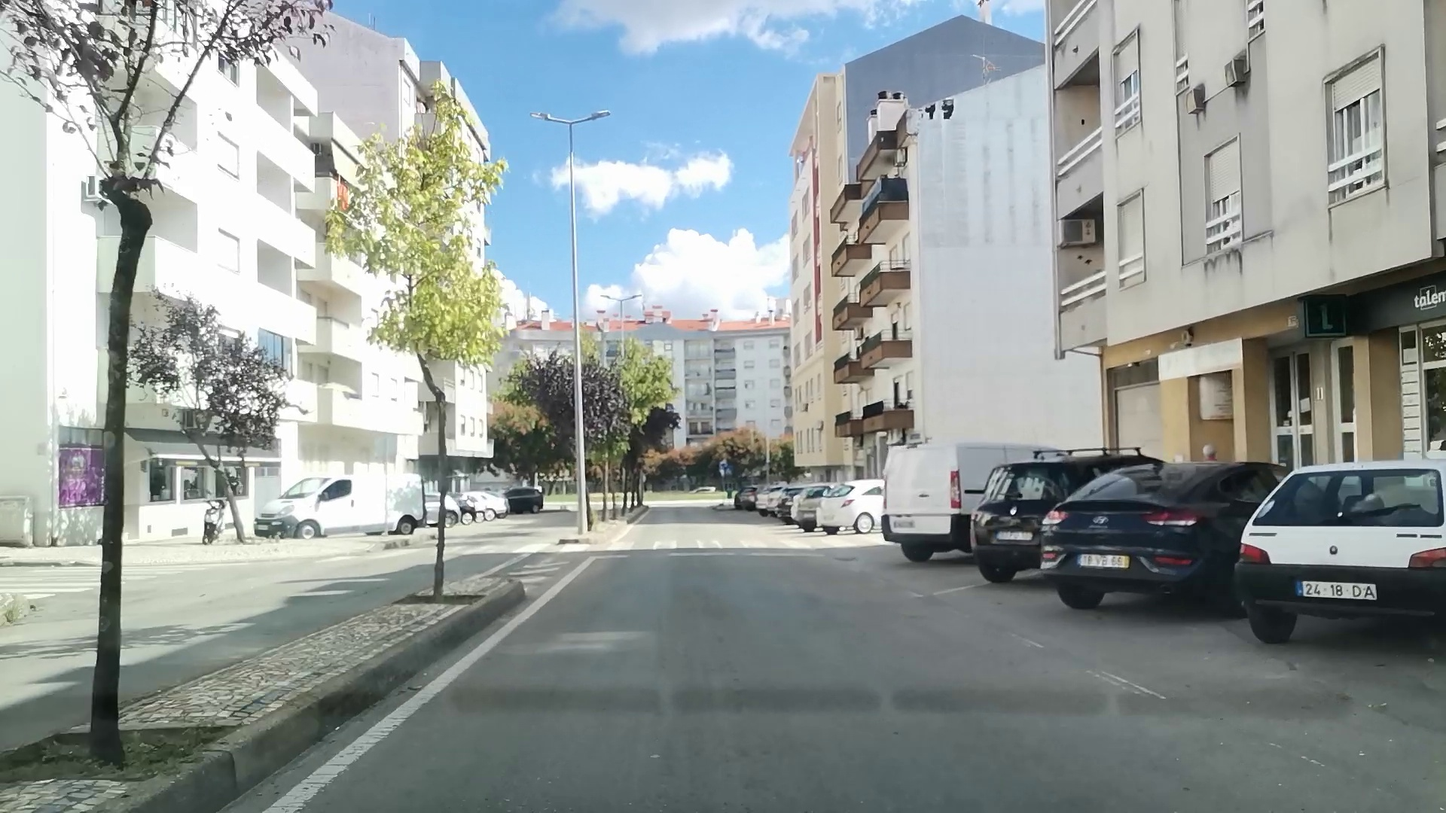Stairs: (596, 537, 821, 556)
